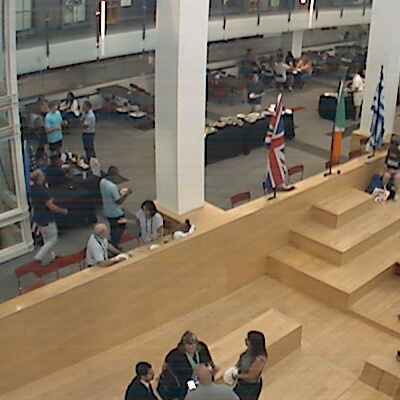head: (130, 357, 159, 383), (243, 327, 271, 352), (176, 328, 203, 351), (191, 360, 215, 383), (139, 199, 158, 218), (92, 223, 109, 239), (106, 164, 120, 180), (31, 168, 45, 182), (385, 145, 399, 159), (45, 101, 61, 112), (81, 102, 93, 114), (249, 72, 260, 84), (346, 70, 359, 80), (65, 92, 77, 101), (35, 93, 46, 102), (275, 56, 284, 67), (298, 55, 308, 63), (246, 47, 254, 57), (285, 51, 293, 58), (276, 48, 285, 54)
